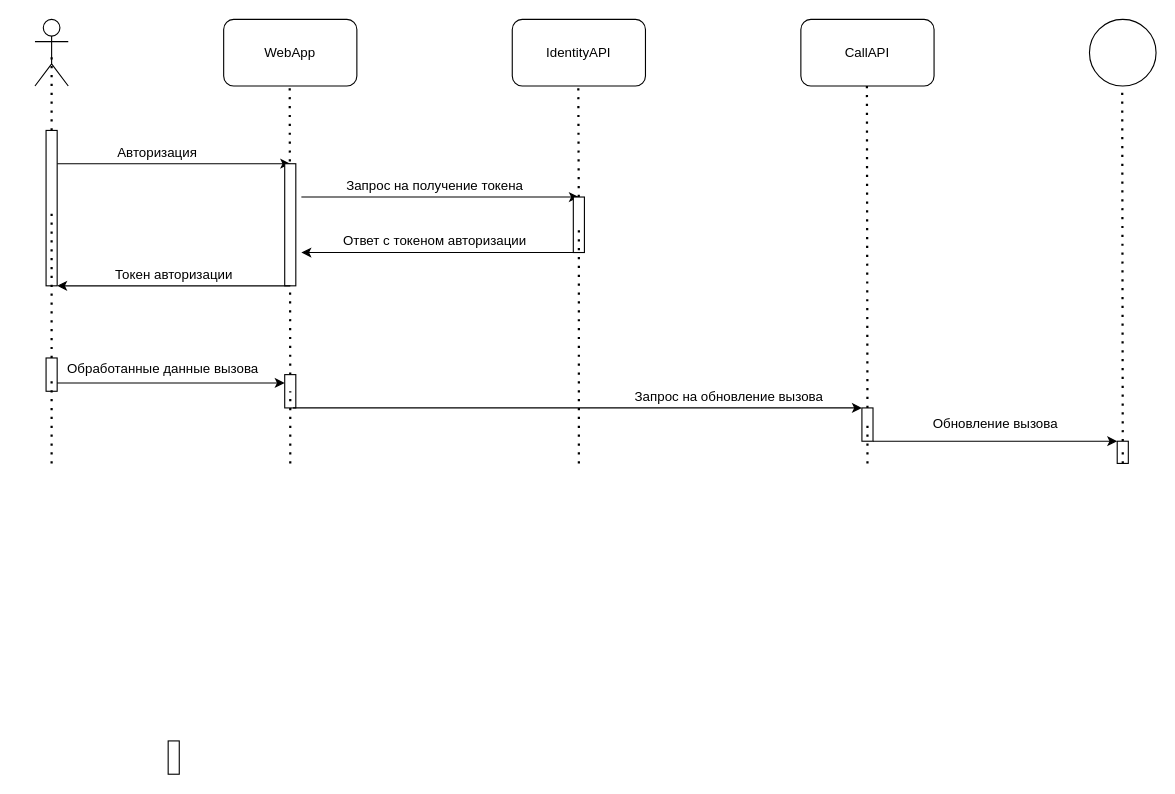
Some shapes in this 1175 by 794 pixel diagram are drawn without their labels. Each missing label, with the centre of its shape:
"Call" belongs at pixel 1122 52.
"Фельдшер" belongs at pixel 51 52.
